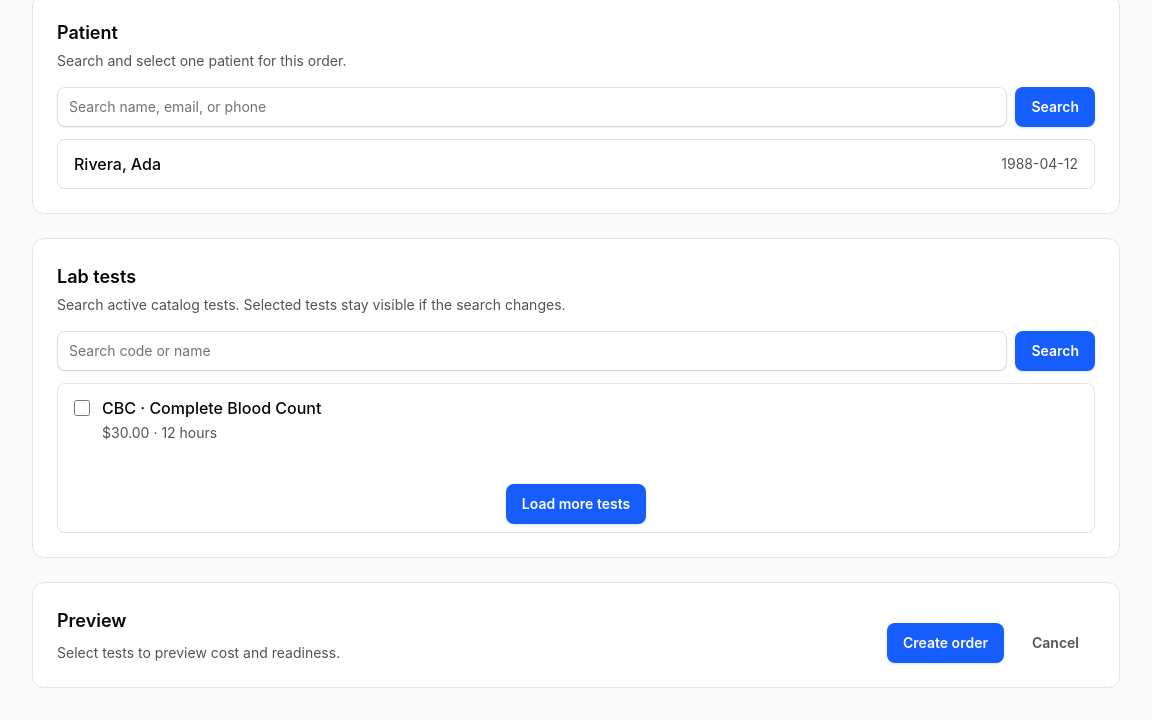
Test case: loads additional catalog pages while choosing tests
This screenshot has width=1152, height=720.
(page scrolled)
Expected: the element named "Active lab tests" is shown, [57,383,1095,533]
Expected: the checkbox labelled "CBC · Complete Blood Count $30.00 · 12 hours" is shown, [74,400,90,416]
What coordinates should you click on to do the following:
click the button "Load more tests"
I would click on:
 (576, 504)
Its box is [506,484,646,524].
(page scrolled)
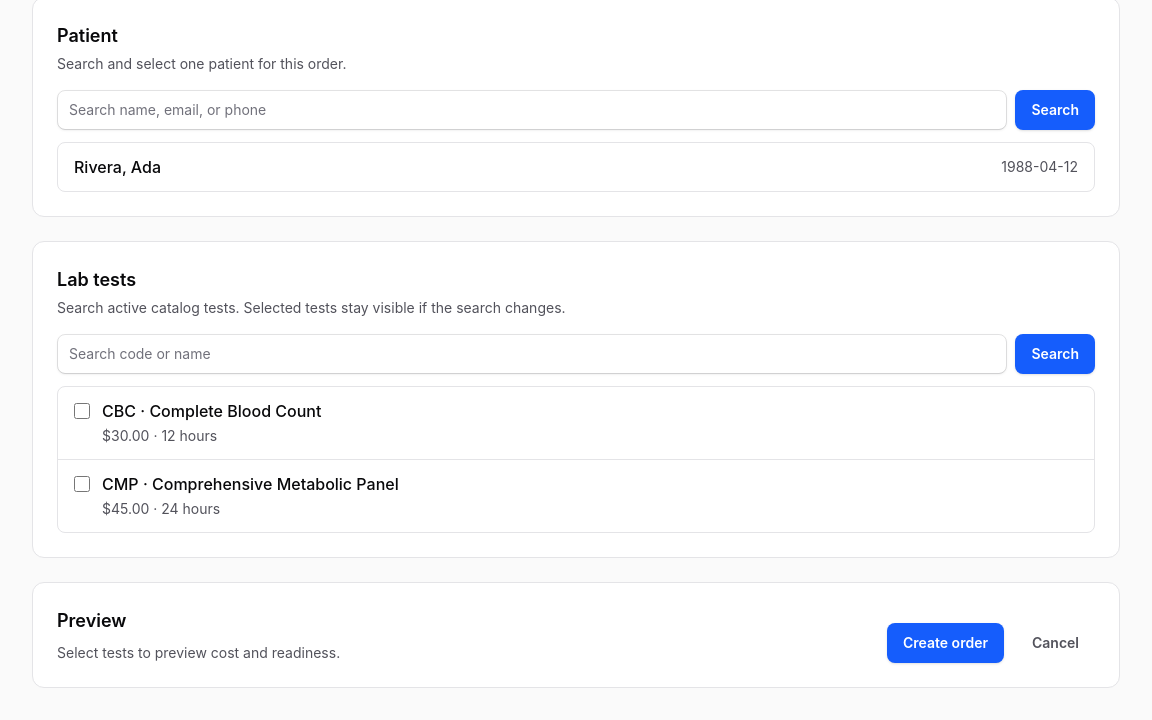
Expected: the checkbox labelled "CMP · Comprehensive Metabolic Panel $45.00 · 24 hours" is shown, [74,476,90,492]
